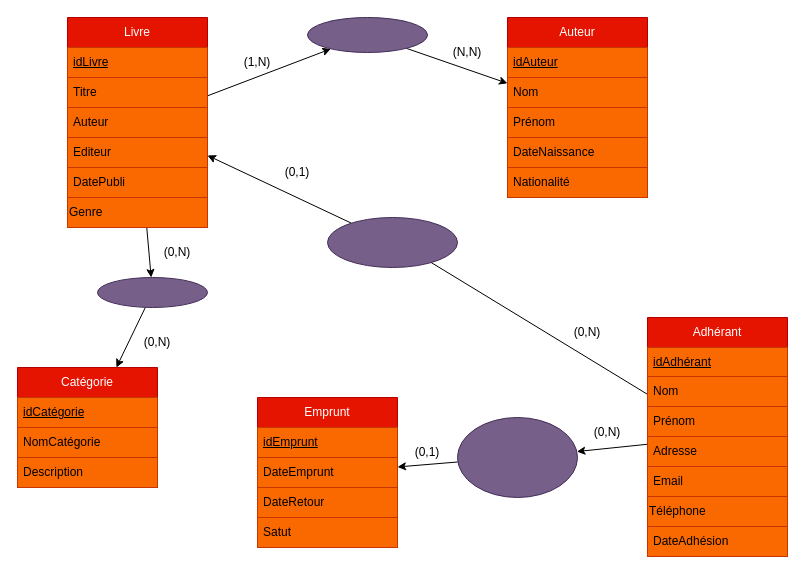
The diagram is 805 pixels wide and 574 high, and some of its shapes have lost their labels. The centre of each missing label's shape, as x and y in pixels:
"Classé Dans" goes at (152,292).
"Ecrit par" goes at (367,34).
"Emprunte" goes at (392,242).
"Fait un Emprunt" goes at (517,457).
